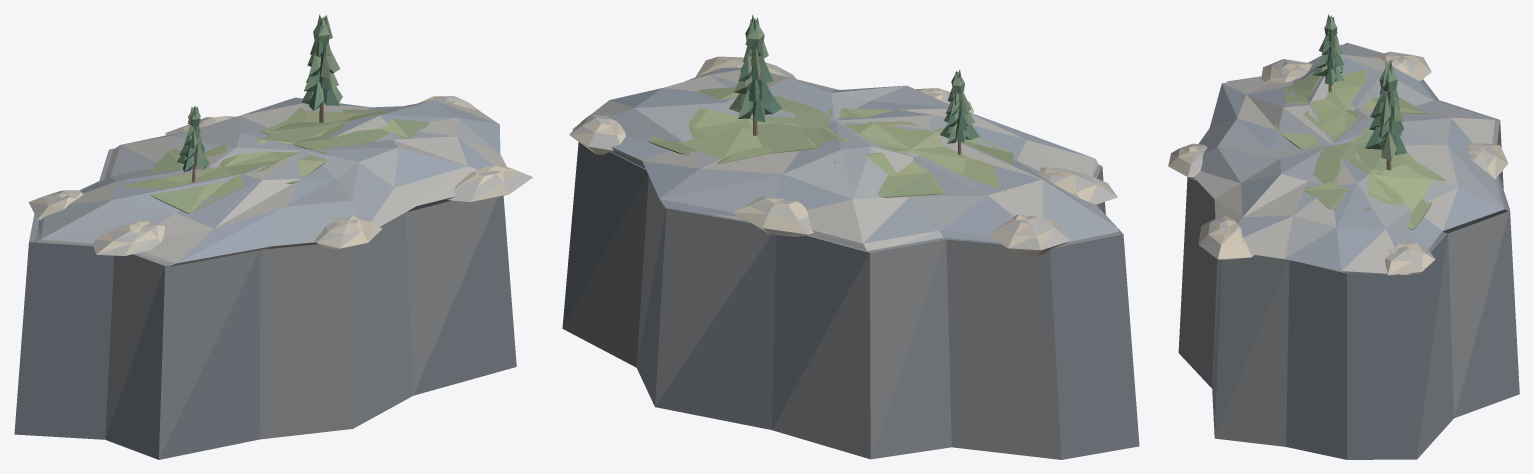
The model's file is island_near_left.glb.
3 views of the same model, side by side, from view 1: azimuth 30°, elevation 25°; view 2: azimuth 150°, elevation 25°; view 3: azimuth 270°, elevation 25° (orthographic). The views are drawn at different scales.
Visible parts, largest first — view 1: island_near_left_rockroot, island_near_left_shoulder, island_near_left_grasscap_west, island_near_left_grasscap_east, island_near_left_wetshore_05, island_near_left_wetshore_03, island_near_left_wetshore_04, island_near_left_wetshore_02, island_near_left_pine_02_crown_tier_00, island_near_left_pine_02_crown_tier_02; view 2: island_near_left_rockroot, island_near_left_shoulder, island_near_left_grasscap_east, island_near_left_grasscap_west, island_near_left_wetshore_02, island_near_left_wetshore_01, island_near_left_wetshore_03, island_near_left_wetshore_00, island_near_left_pine_02_crown_tier_00, island_near_left_wetshore_05, island_near_left_pine_02_crown_tier_01, island_near_left_pine_02_crown_tier_02; view 3: island_near_left_rockroot, island_near_left_shoulder, island_near_left_grasscap_east, island_near_left_grasscap_west, island_near_left_wetshore_05, island_near_left_wetshore_00, island_near_left_wetshore_01, island_near_left_wetshore_04, island_near_left_wetshore_03, island_near_left_wetshore_02, island_near_left_pine_02_crown_tier_00, island_near_left_pine_02_crown_tier_02 (+2 smaller).
Part boxes in pixels (box(x1,y1,x2,y2)): island_near_left_rockroot: box(14, 148, 516, 459); island_near_left_shoulder: box(35, 97, 506, 266); island_near_left_grasscap_west: box(114, 130, 326, 213); island_near_left_grasscap_east: box(260, 107, 429, 153); island_near_left_wetshore_05: box(448, 165, 532, 201); island_near_left_wetshore_03: box(92, 220, 164, 255); island_near_left_wetshore_04: box(315, 215, 382, 249); island_near_left_wetshore_02: box(28, 190, 83, 219); island_near_left_pine_02_crown_tier_00: box(301, 82, 342, 110); island_near_left_pine_02_crown_tier_02: box(307, 50, 339, 78); island_near_left_rockroot: box(562, 142, 1139, 459); island_near_left_shoulder: box(572, 67, 1118, 250); island_near_left_grasscap_east: box(648, 87, 832, 163); island_near_left_grasscap_west: box(803, 108, 1013, 197); island_near_left_wetshore_02: box(990, 214, 1069, 256); island_near_left_wetshore_01: box(732, 196, 813, 236); island_near_left_wetshore_03: box(1040, 167, 1117, 204); island_near_left_wetshore_00: box(569, 114, 625, 154); island_near_left_pine_02_crown_tier_00: box(729, 90, 781, 122); island_near_left_wetshore_05: box(695, 56, 795, 78); island_near_left_pine_02_crown_tier_01: box(734, 76, 773, 102); island_near_left_pine_02_crown_tier_02: box(738, 53, 773, 83); island_near_left_rockroot: box(1178, 42, 1519, 459); island_near_left_shoulder: box(1193, 44, 1507, 274); island_near_left_grasscap_east: box(1304, 141, 1445, 230); island_near_left_grasscap_west: box(1274, 66, 1427, 149); island_near_left_wetshore_05: box(1198, 216, 1253, 260); island_near_left_wetshore_00: box(1385, 242, 1435, 275); island_near_left_wetshore_01: box(1467, 143, 1508, 179); island_near_left_wetshore_04: box(1168, 143, 1207, 180); island_near_left_wetshore_03: box(1261, 59, 1312, 82); island_near_left_wetshore_02: box(1376, 51, 1431, 80); island_near_left_pine_02_crown_tier_00: box(1364, 127, 1407, 161); island_near_left_pine_02_crown_tier_02: box(1370, 95, 1403, 125).
Bounding box in the file's own units: 68.67 × 43.67 × 41.84.
